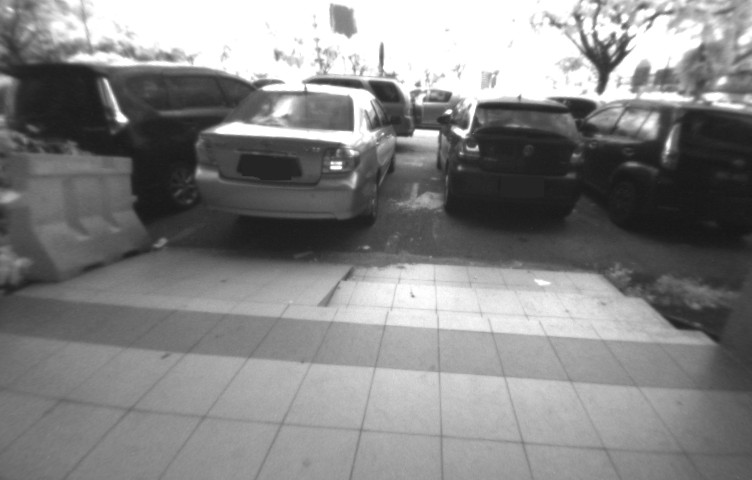down_steps: (310, 254, 729, 359)
mixed_gradient: (285, 255, 375, 335)
